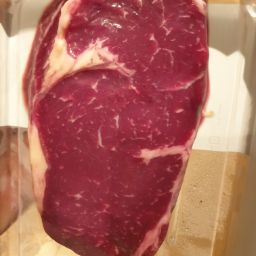Beef: (25, 1, 217, 254), (18, 3, 210, 211), (14, 114, 181, 256), (9, 63, 216, 174)
